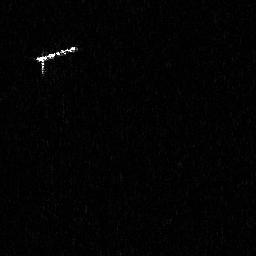ship: (32, 43, 81, 78)
